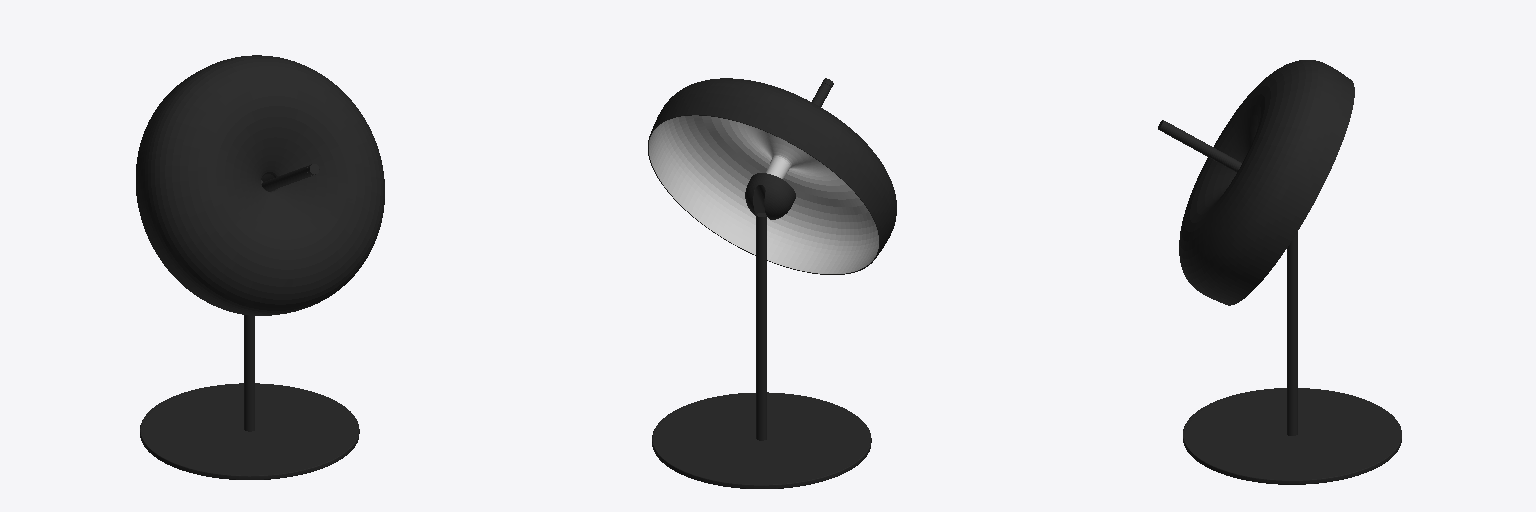
File: Pendulum.obj
3 views of the same model, side by side, from view 1: azimuth 30°, elevation 25°; view 2: azimuth 150°, elevation 25°; view 3: azimuth 270°, elevation 25° (orthographic).
Parts seen in each view (by area): view 1: Shader_Circle.003, Base_Circle, Column_001_Circle.001, Column_002_Circle.008; view 2: Shader_Circle.003, Base_Circle, Column_001_Circle.001, Sphere; view 3: Shader_Circle.003, Base_Circle, Column_001_Circle.001, Column_002_Circle.008.
Boxes of the visible parts, x1=… form: Shader_Circle.003: x1=136, y1=55, x2=384, y2=315; Base_Circle: x1=140, y1=383, x2=359, y2=479; Column_001_Circle.001: x1=244, y1=315, x2=254, y2=431; Column_002_Circle.008: x1=262, y1=164, x2=319, y2=191; Shader_Circle.003: x1=648, y1=78, x2=896, y2=274; Base_Circle: x1=652, y1=392, x2=871, y2=488; Column_001_Circle.001: x1=756, y1=213, x2=766, y2=440; Sphere: x1=745, y1=173, x2=795, y2=219; Shader_Circle.003: x1=1179, y1=60, x2=1354, y2=305; Base_Circle: x1=1183, y1=388, x2=1401, y2=484; Column_001_Circle.001: x1=1287, y1=232, x2=1297, y2=435; Column_002_Circle.008: x1=1158, y1=120, x2=1241, y2=172.
Bounding box in the file's own units: 0.1961 × 0.3027 × 0.1835.